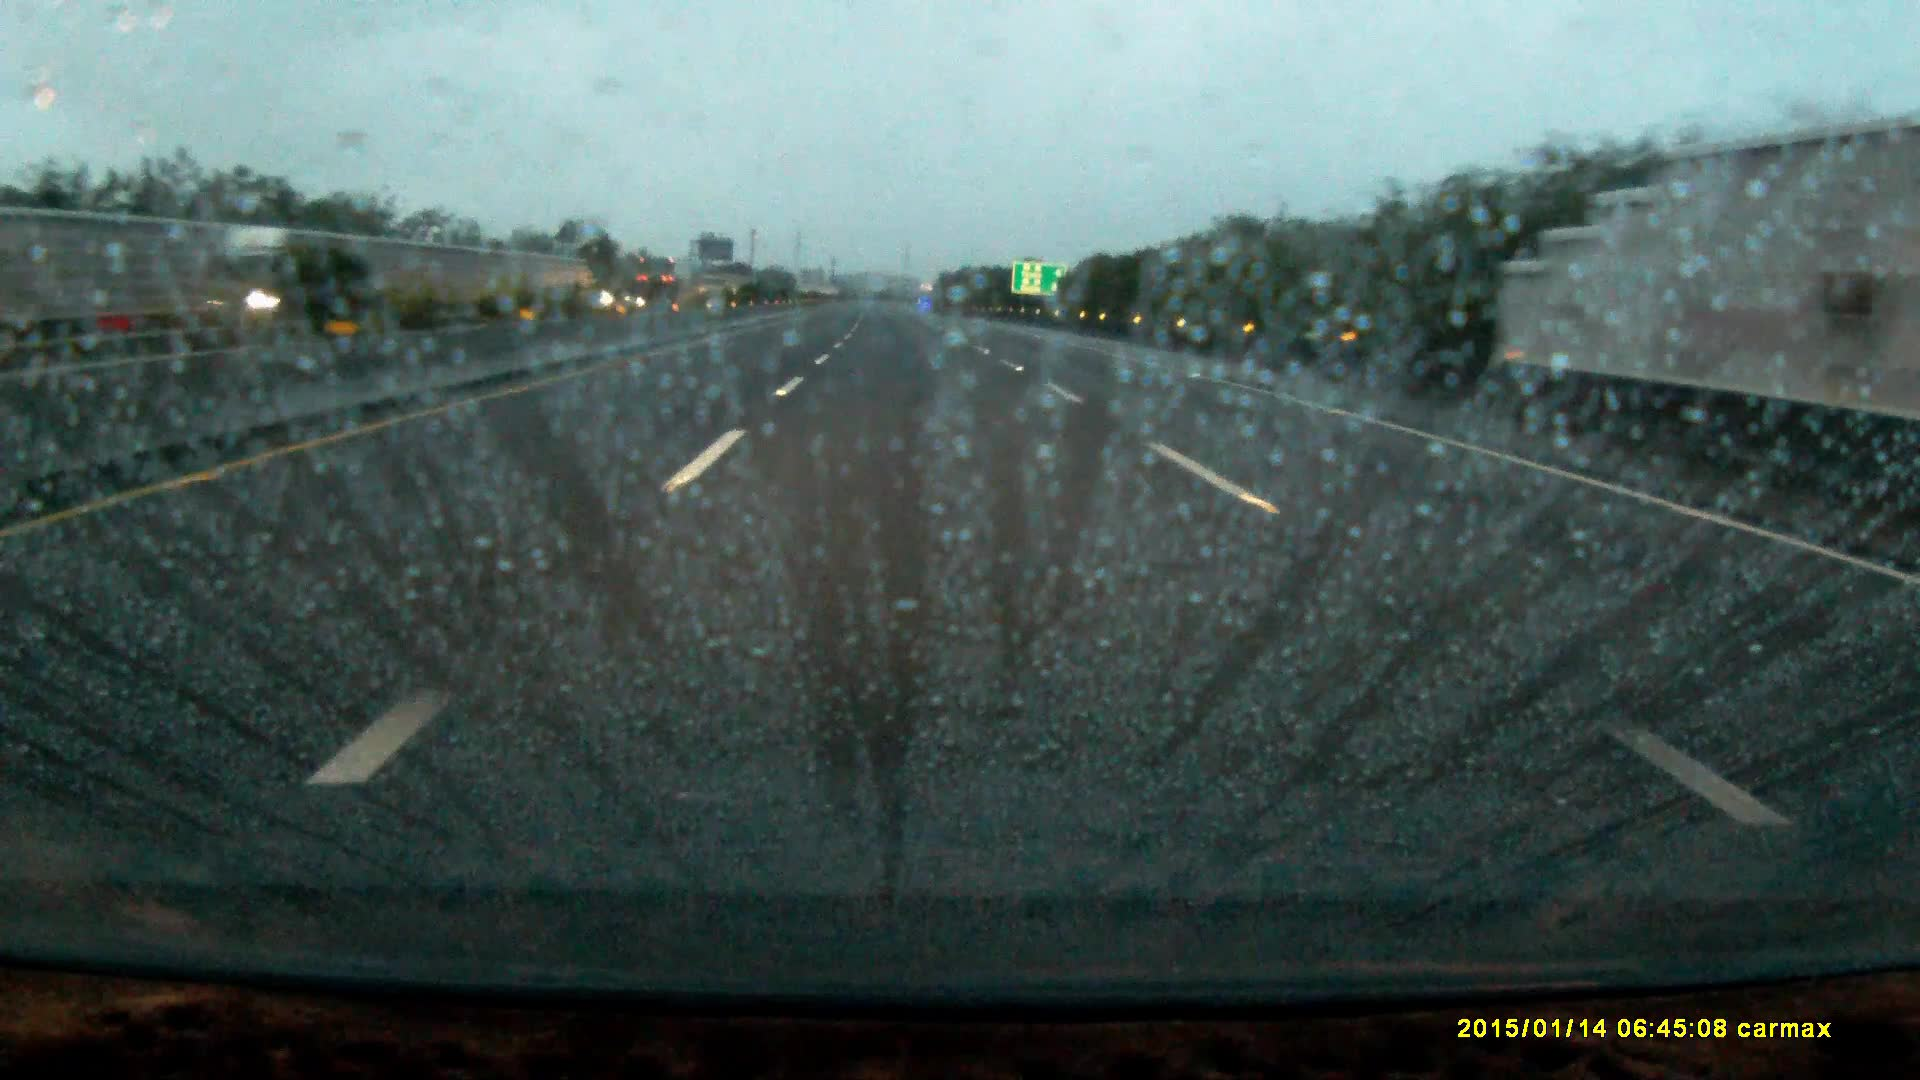vehicle: (206, 225, 355, 345), (633, 256, 695, 315)
